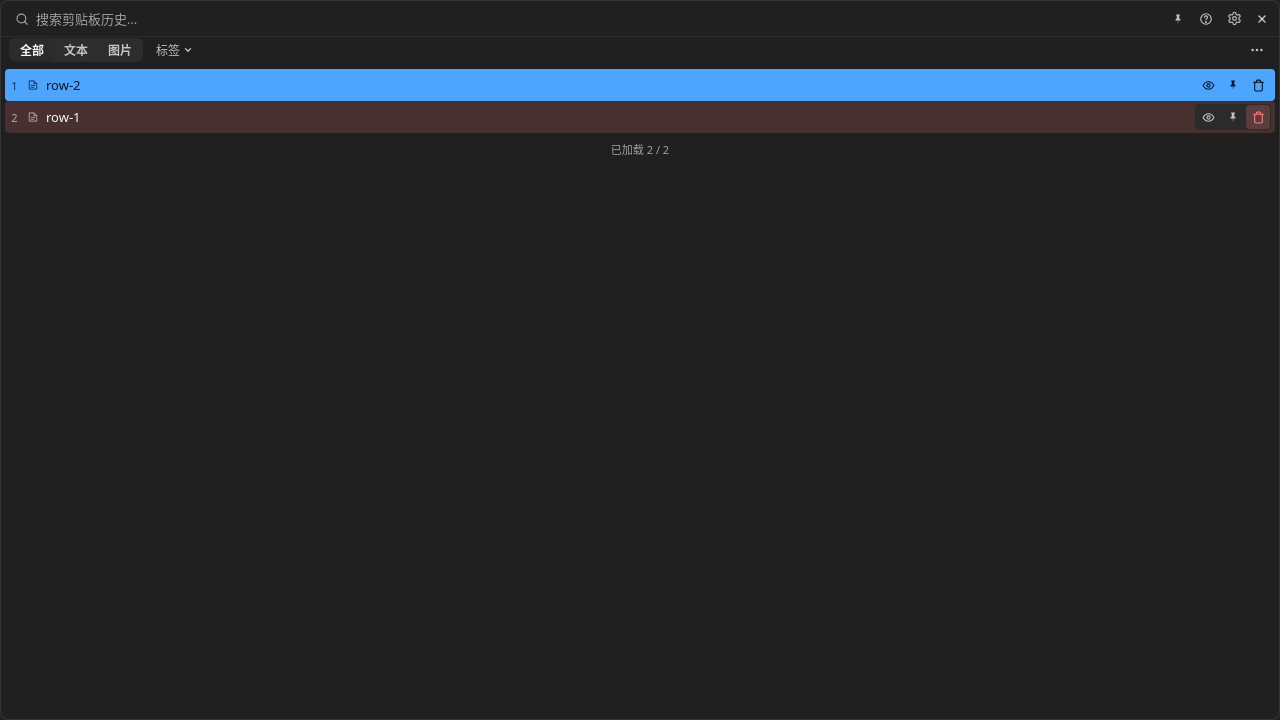
live history list › does not restore a manually deleted record from an earlier refresh
The width and height of the screenshot is (1280, 720).
Earlier steps of the test are not shown.
Click the button titled "再次点击删除". click: (1258,117)
box: [1246,105,1270,129]
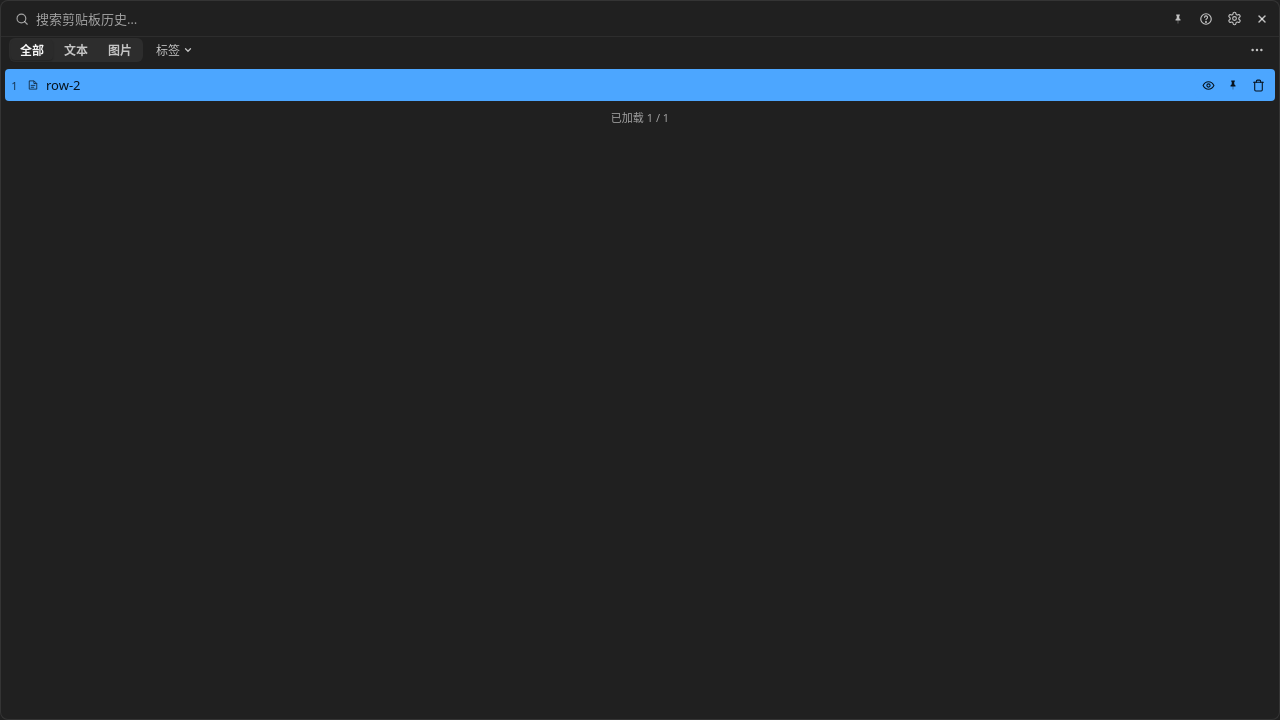
Expected: the option "row-1" is gone
Expected: the text "已加载 1 / 1" is shown, [611,109,669,125]
